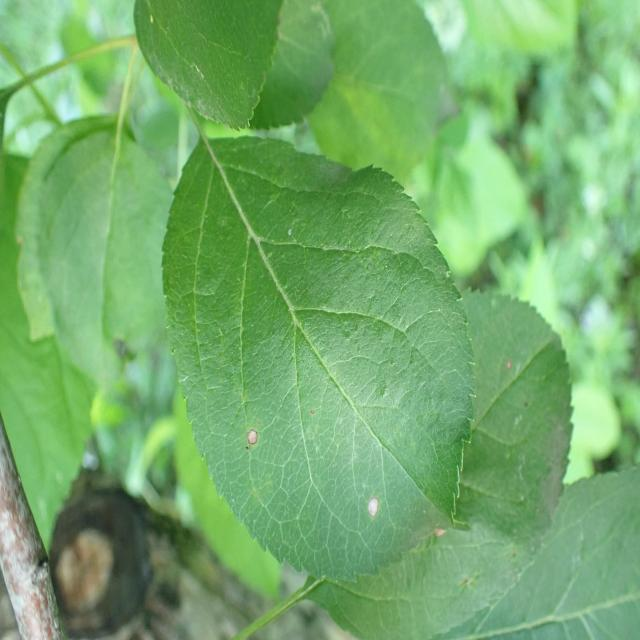Black Rot: (356, 483, 394, 530), (228, 421, 270, 456)
